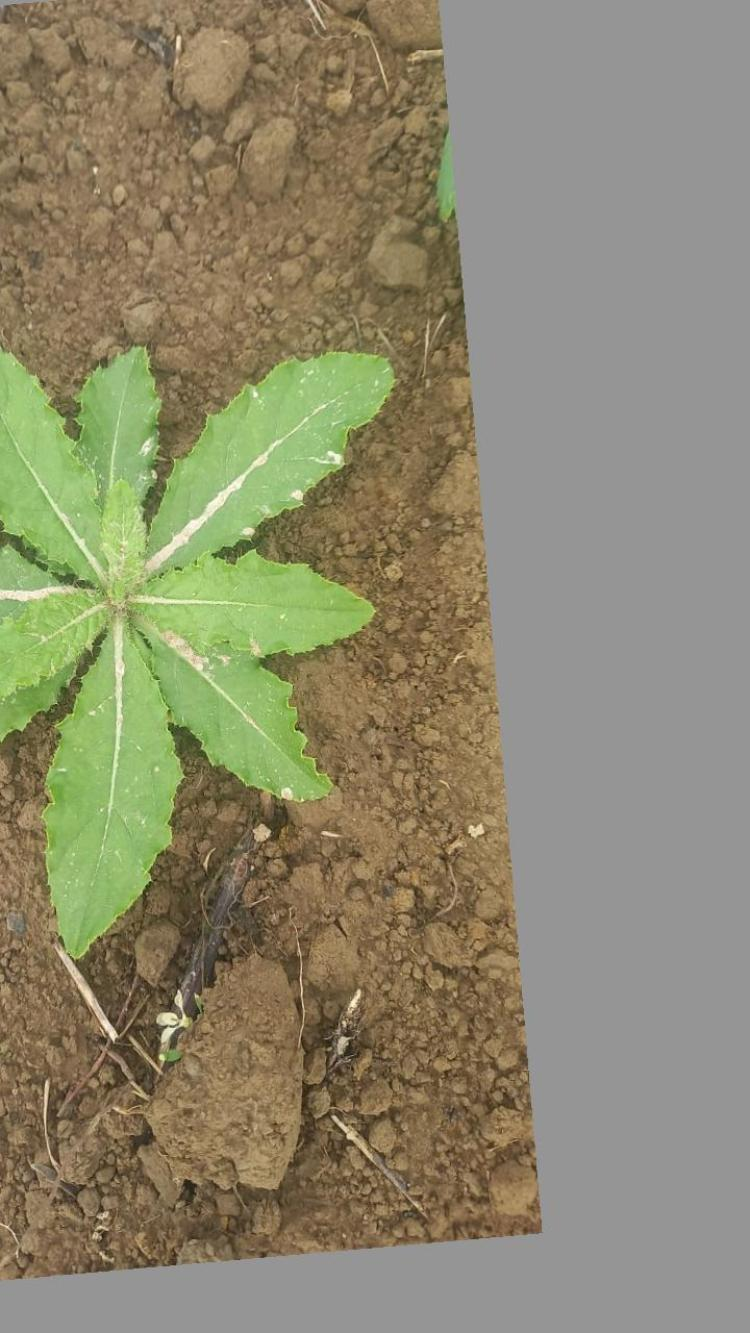osot: (7, 337, 410, 943)
